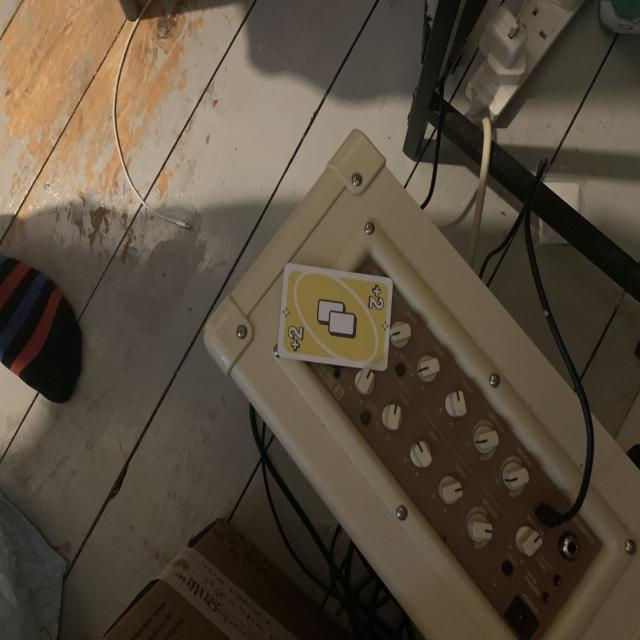lyellow-20: (364, 281, 386, 317)
